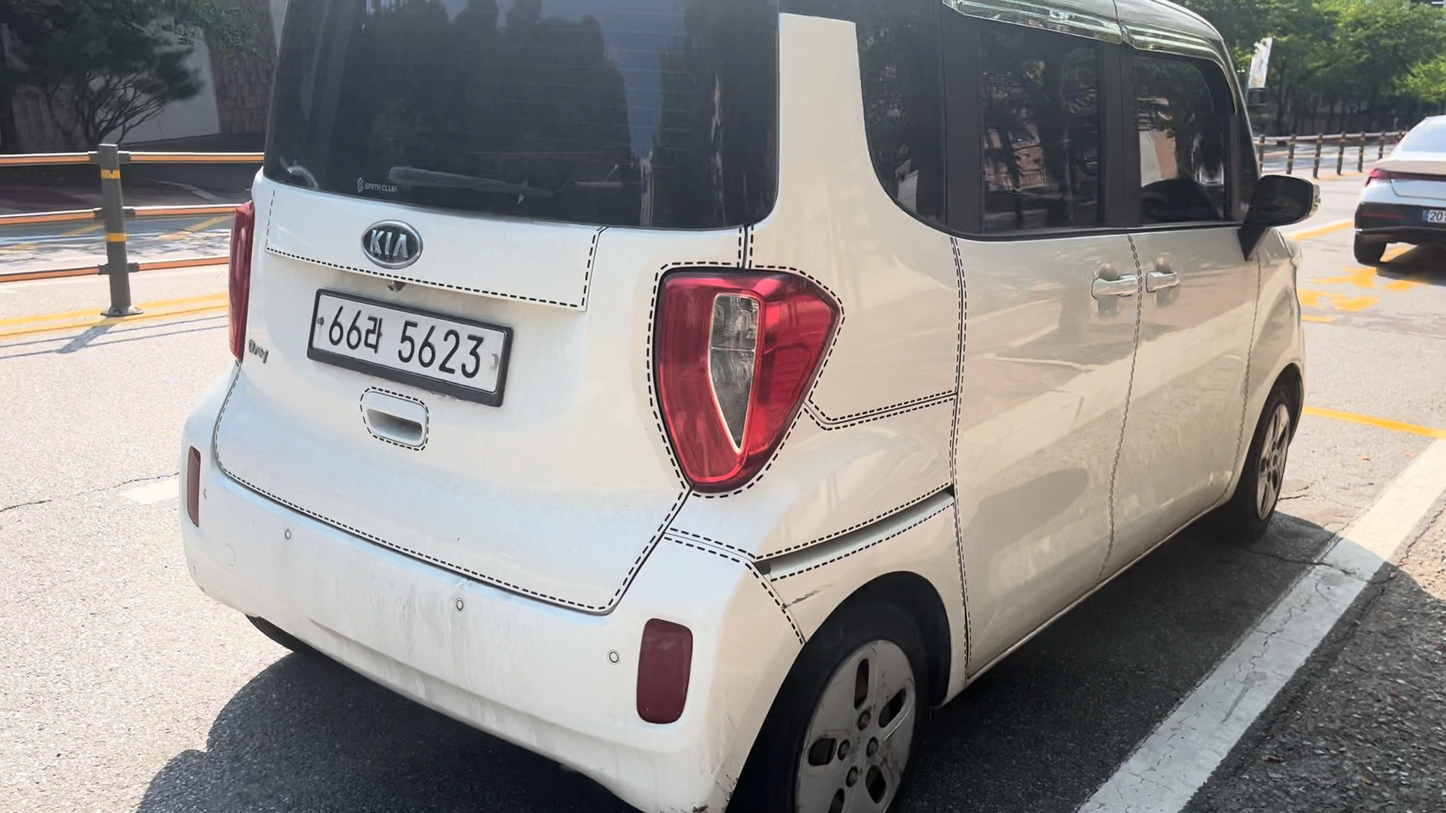car_emblem: (361, 218, 424, 272)
license_plate: (308, 290, 511, 405)
side_mirror: (1239, 175, 1319, 259)
tail_light: (654, 269, 838, 492), (636, 618, 691, 723), (228, 201, 255, 361), (185, 447, 200, 527), (1365, 168, 1393, 185)
